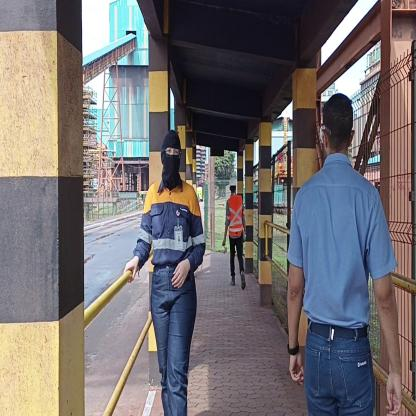Balaclava: (160, 126, 182, 186)
Capacete: (228, 174, 237, 188)
Operacional: (136, 183, 204, 266)
colete: (228, 193, 244, 237)
